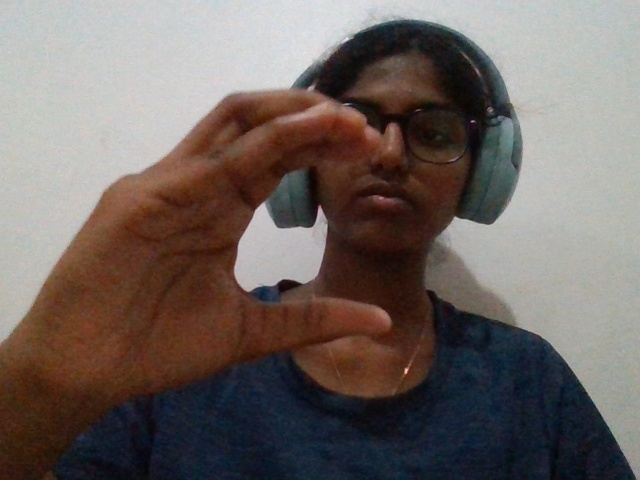C: (4, 33, 401, 467)
